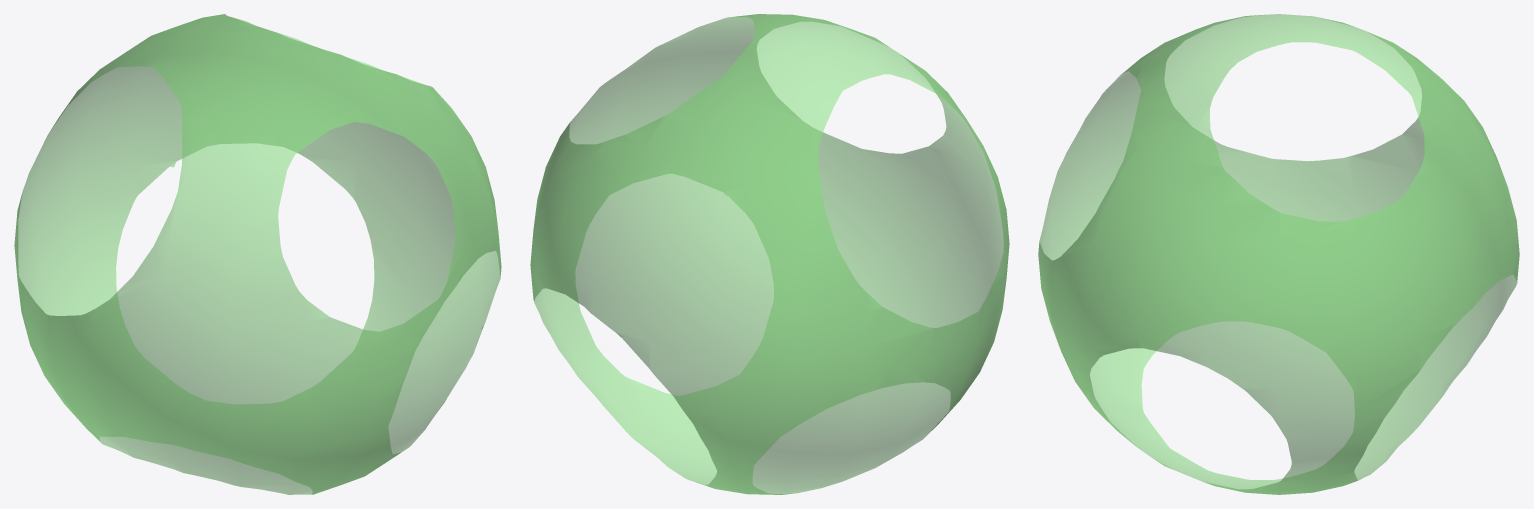
The model's file is tentaclepiece2.fbx.
3 views of the same model, side by side, from view 1: azimuth 30°, elevation 25°; view 2: azimuth 150°, elevation 25°; view 3: azimuth 270°, elevation 25° (orthographic).
Parts seen in each view (by area): view 1: pSphere262; view 2: pSphere262; view 3: pSphere262.
Part boxes in pixels (x1=…): pSphere262: x1=14, y1=14, x2=501, y2=494; pSphere262: x1=530, y1=14, x2=1009, y2=494; pSphere262: x1=1038, y1=14, x2=1519, y2=494.
Bounding box in the file's own units: 9.99 × 9.97 × 10.
